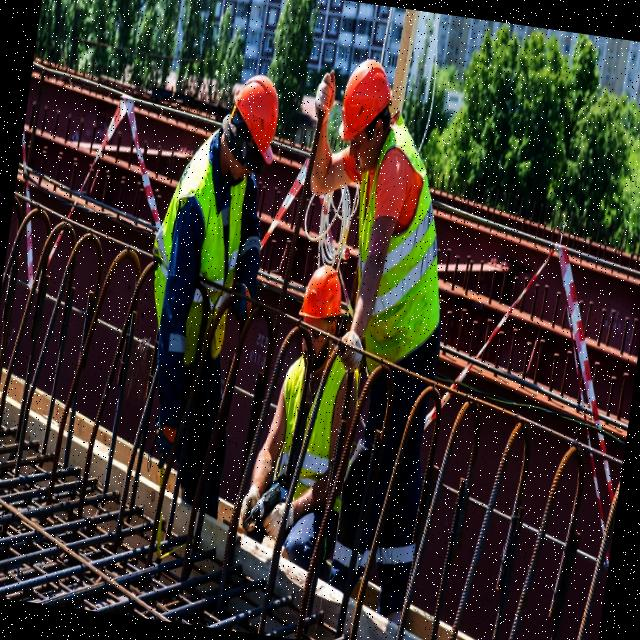Helmet: (218, 73, 287, 169), (336, 55, 399, 152), (300, 261, 350, 327)
Jacket: (342, 146, 447, 369), (158, 148, 250, 357), (272, 348, 341, 504)
